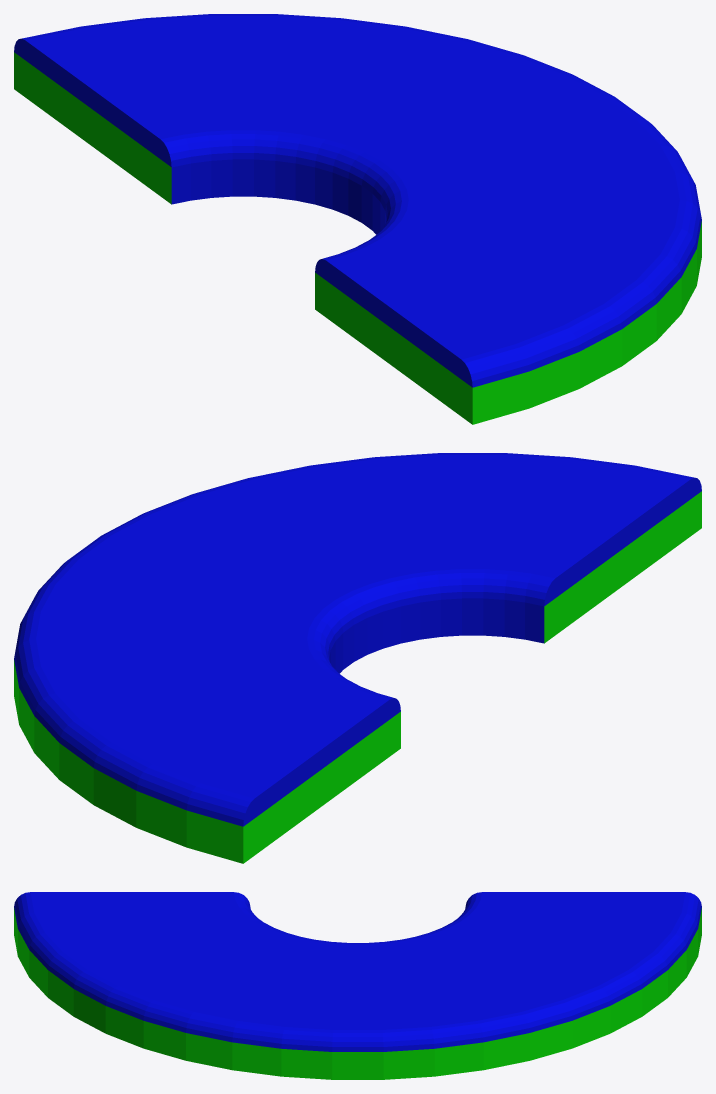
3 views of the same model, one above another, from view 1: azimuth 30°, elevation 25°; view 2: azimuth 150°, elevation 25°; view 3: azimuth 270°, elevation 25° (orthographic). The views are drawn at different scales.
Visible parts, largest first — view 1: plank12; view 2: plank12; view 3: plank12.
Part boxes in pixels (x1,y1,x2,y2): plank12: (14, 14, 701, 424); plank12: (14, 453, 701, 863); plank12: (14, 892, 701, 1079).
Size of the model in its own units: 725 by 100 by 1455.
